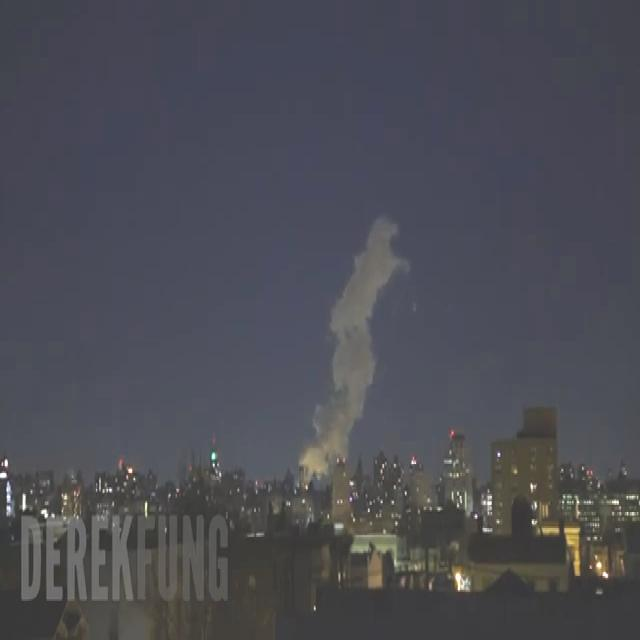smoke: (299, 217, 408, 476)
